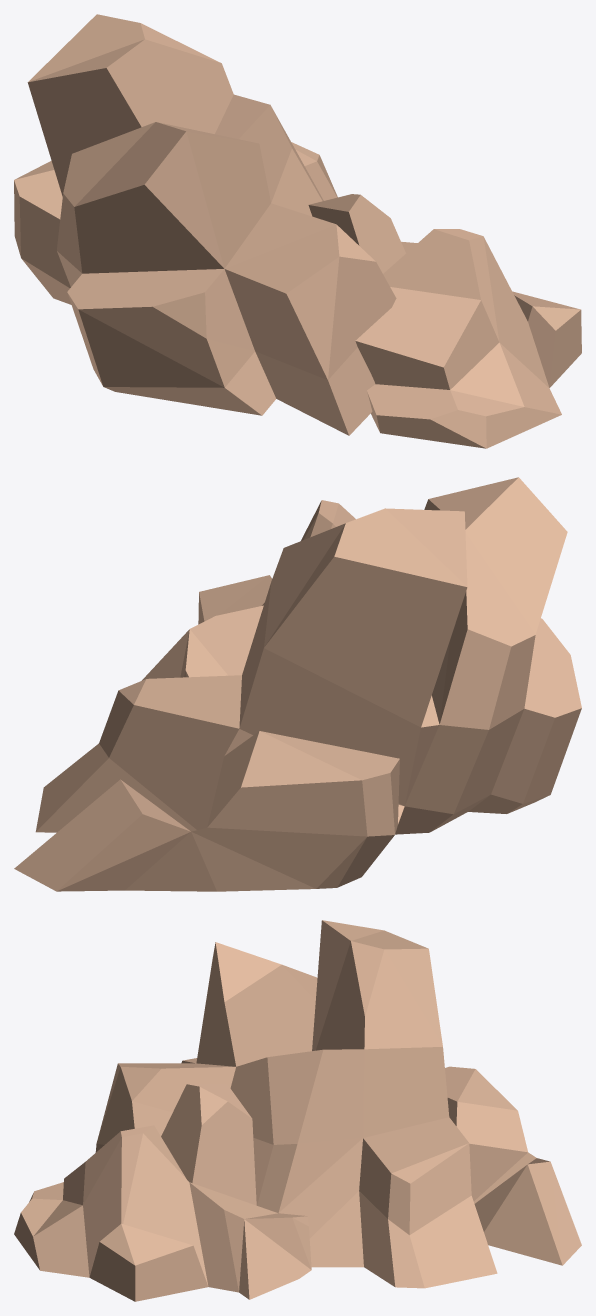
Rendered from Cliff_Rock_3.fbx.
3 renders of one model, top to bottom at view 1: azimuth 30°, elevation 25°; view 2: azimuth 150°, elevation 25°; view 3: azimuth 270°, elevation 25°, orthographic. The views are drawn at different scales.
Parts seen in each view (by area): view 1: Cliff_Rock_3; view 2: Cliff_Rock_3; view 3: Cliff_Rock_3.
Boxes of the visible parts, x1,y1,x2,y2 form: Cliff_Rock_3: (14, 14, 581, 448); Cliff_Rock_3: (14, 477, 581, 891); Cliff_Rock_3: (14, 920, 581, 1301).
Size of the model in its own units: 164 by 107 by 230.
